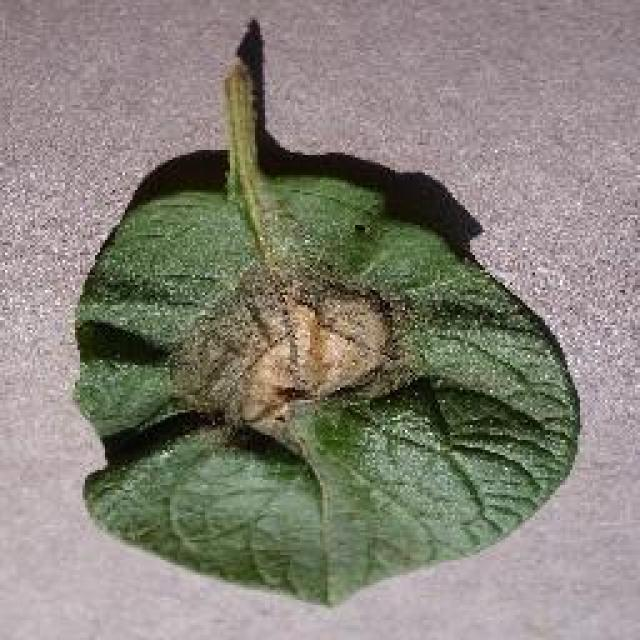Potato___Late_blight: (66, 62, 581, 613)
